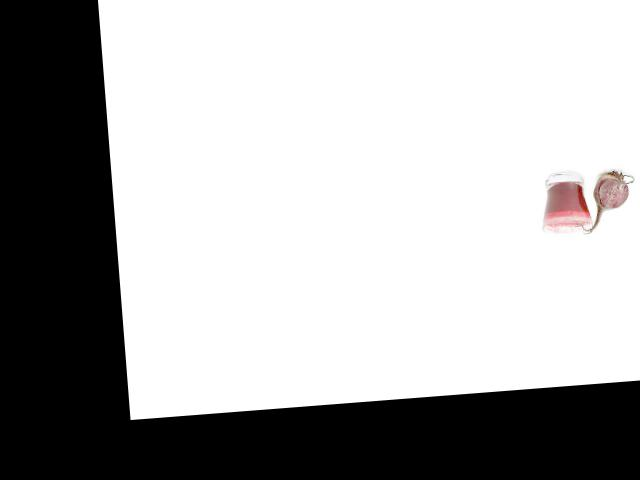beet: (570, 168, 637, 234)
